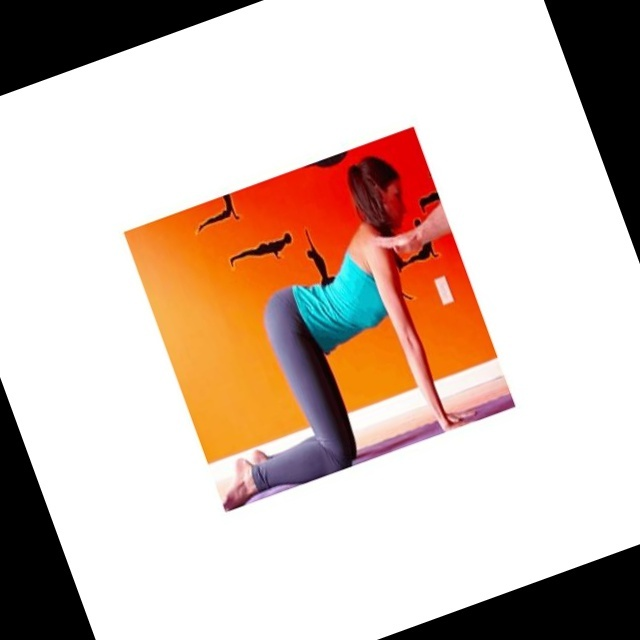Cow_Pose: (222, 158, 473, 505)
